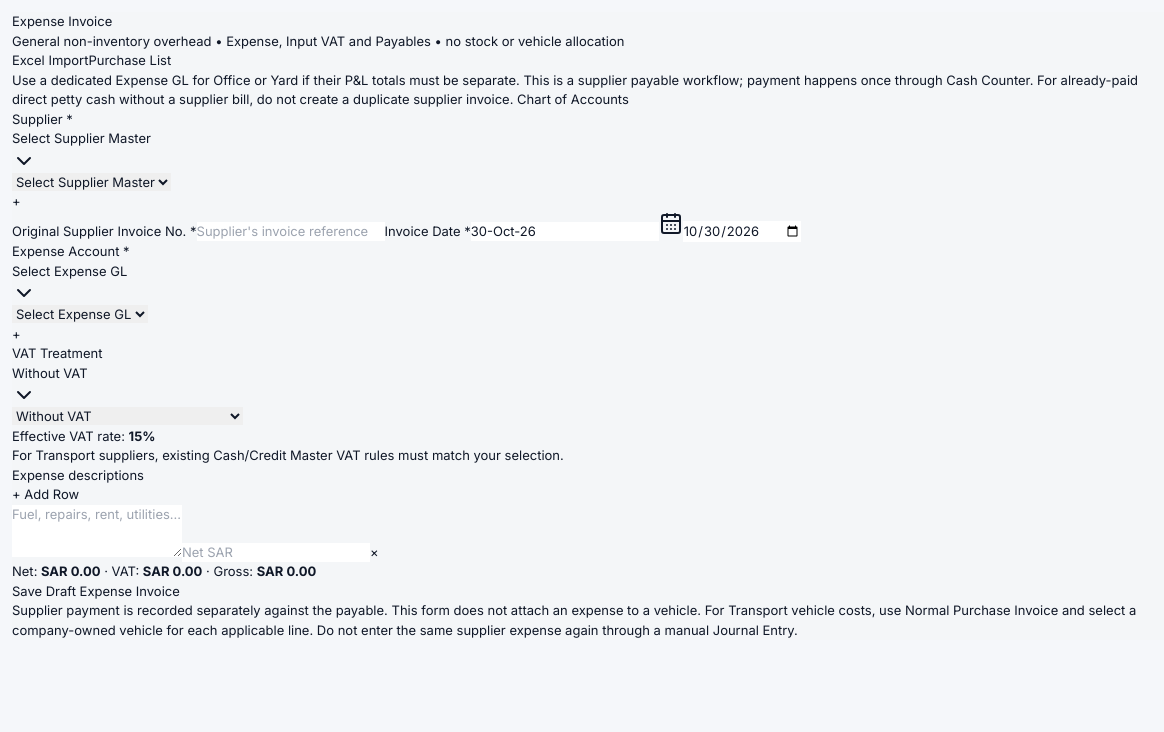
it: General Expense Bill non-inventory workflow › saves a VAT expense bill as draft and leaves manual posting to invoice detail
Select "Test Supplier" in the dropdown named "Expense invoice supplier" at x=92, y=182, box [12,172,171,190]
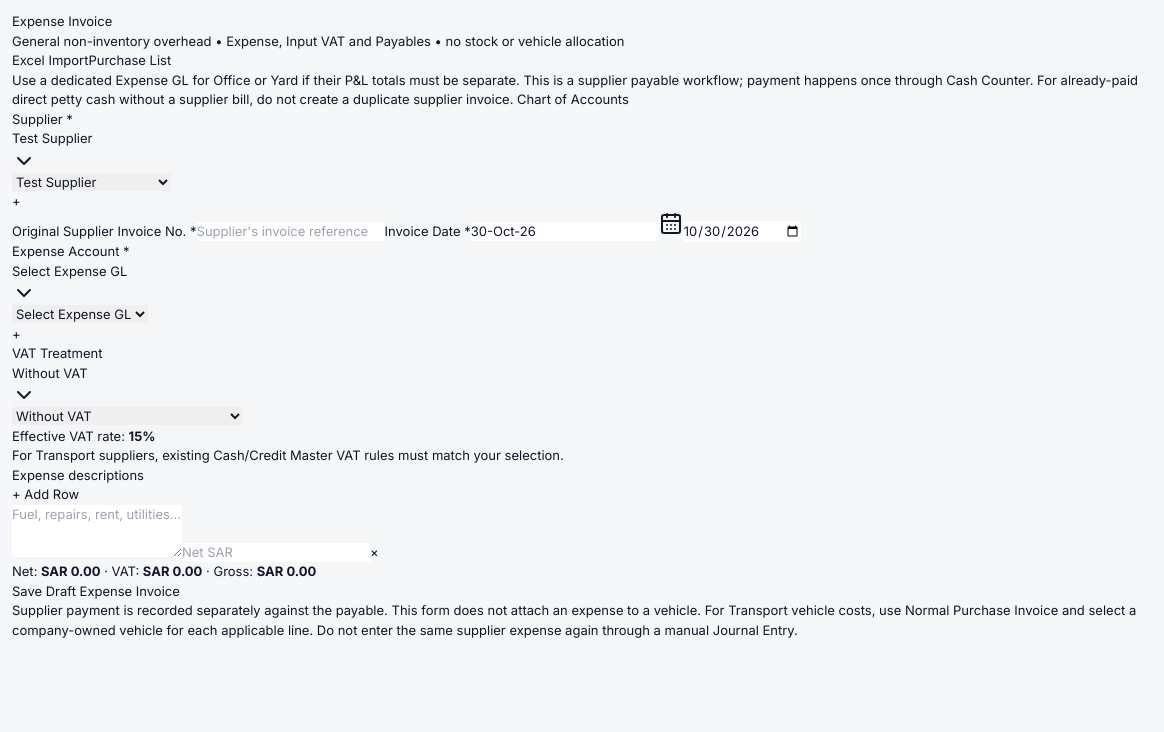
Type "SUP-001" into the field named "Expense supplier invoice number" at x=290, y=231, box [196,222,384,241]
Select "Repairs Expense" in the dropdown named "Expense invoice account" at x=80, y=314, box [12,305,148,323]
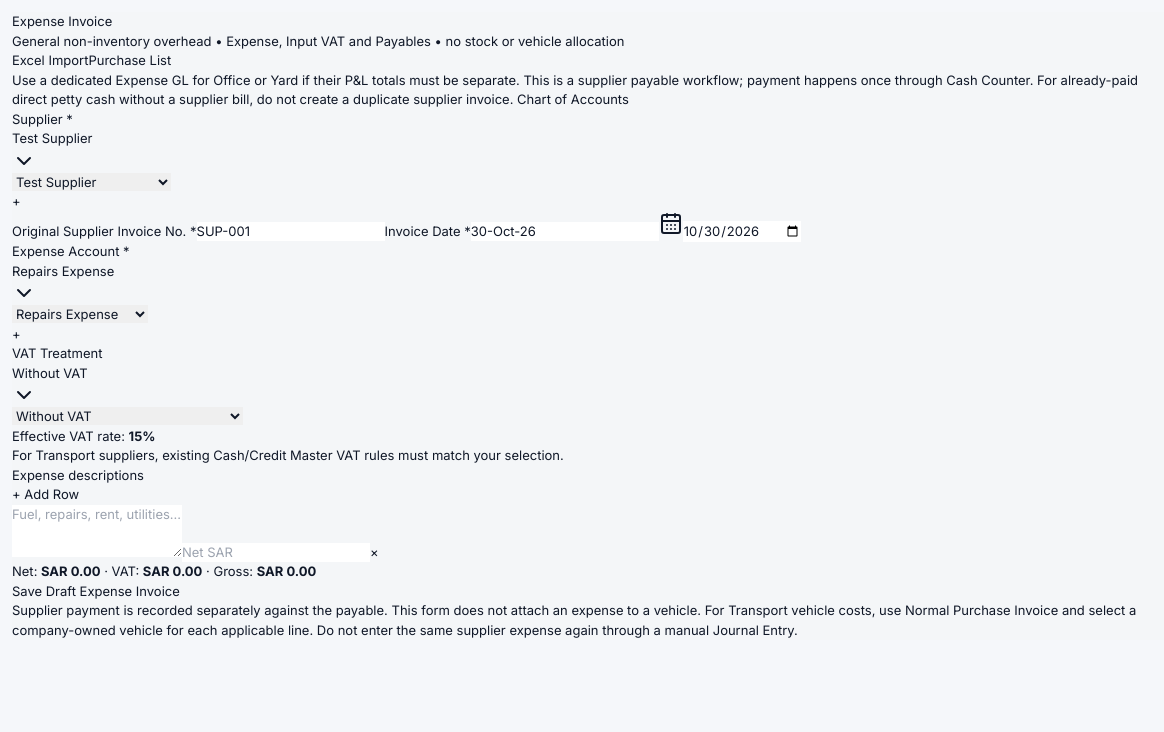
Type "Vehicle repairs" into the text box named "Expense description 1" at x=97, y=530, box [12,504,182,556]
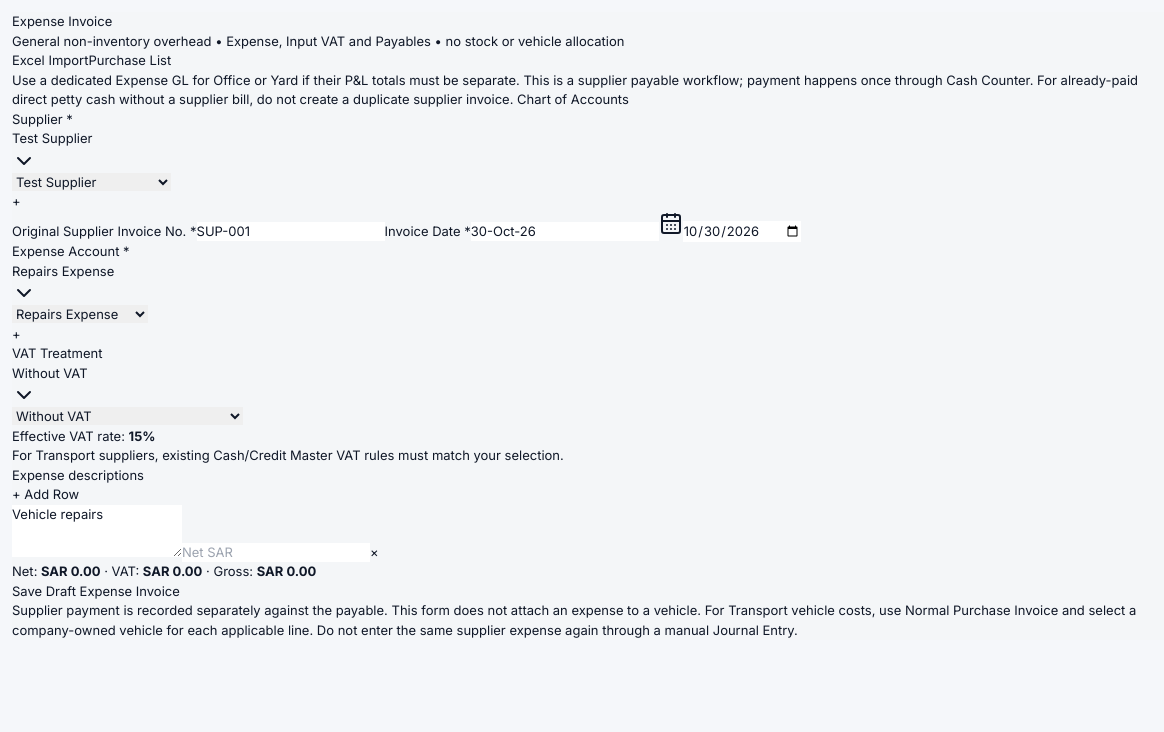
Type "100" into the field named "Expense amount 1" at x=276, y=552, box [182,542,370,562]
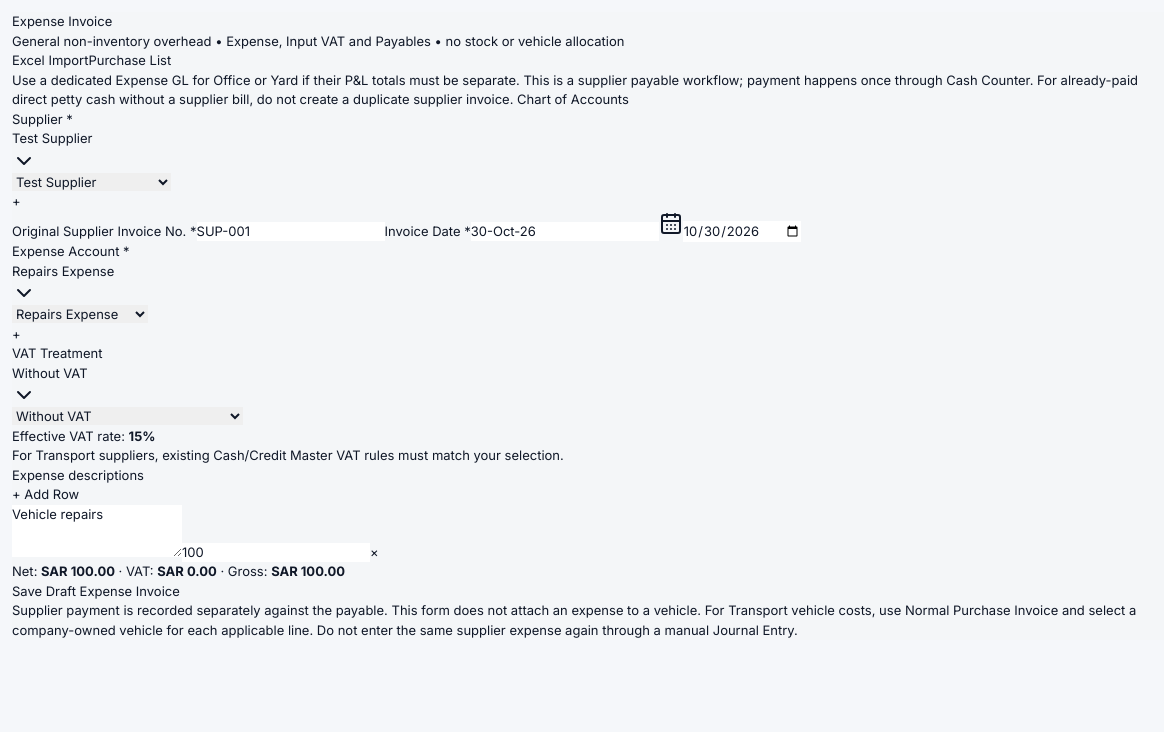
Select "With VAT (effective company rate)" in the dropdown named "Expense invoice VAT treatment" at x=128, y=416, box [12,407,243,425]
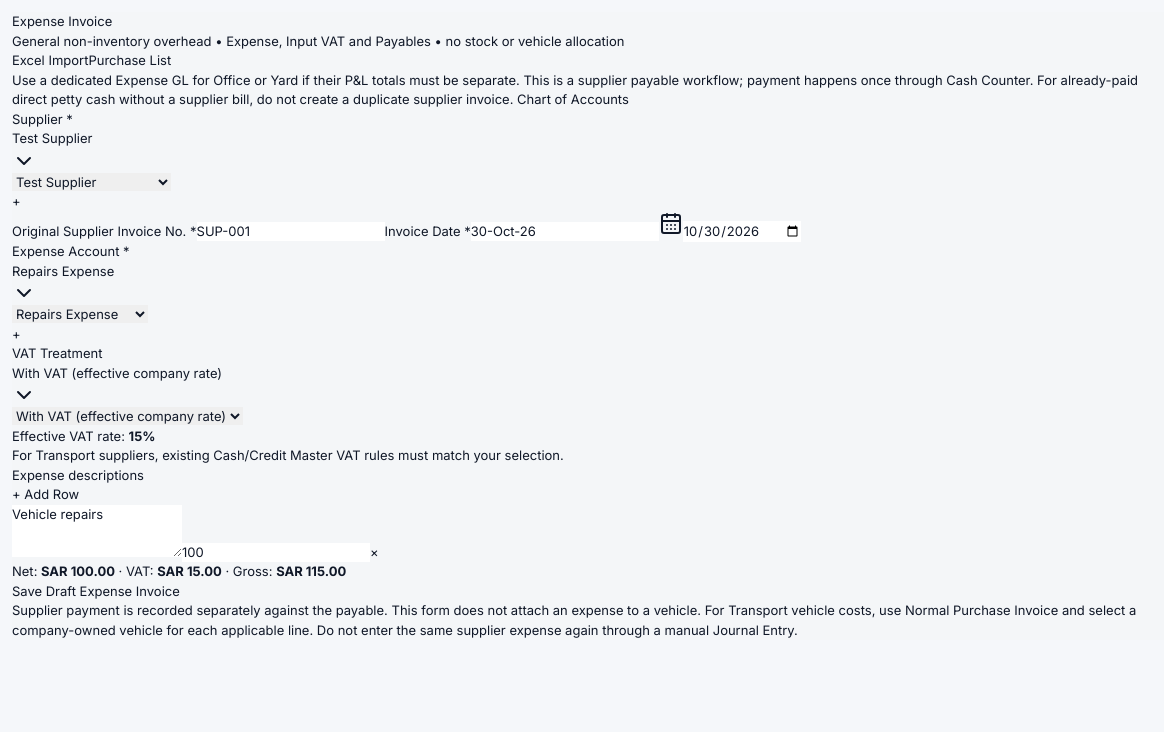
Now the text "SAR 15.00" is shown, box [157,563,222,579]
Click the button "Save Draft Expense Invoice" at x=96, y=591, box [12,582,180,601]
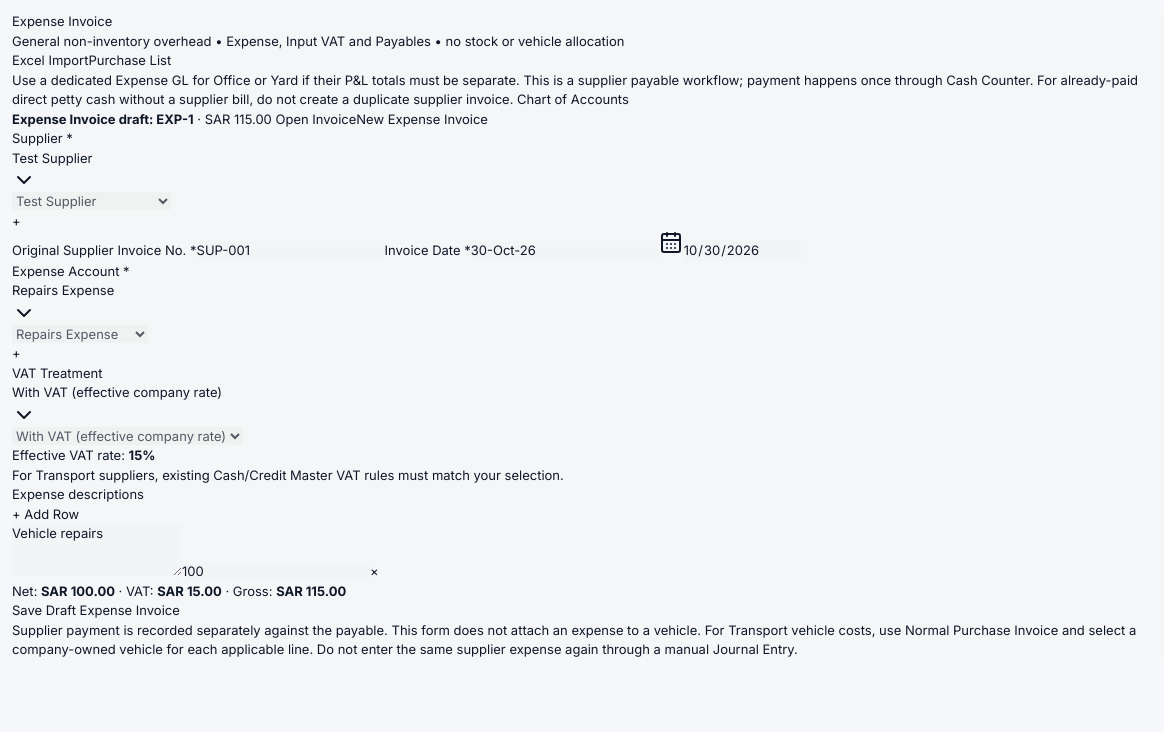
Now the text "Expense Invoice draft: EXP-1" is shown, box [12,110,194,126]
